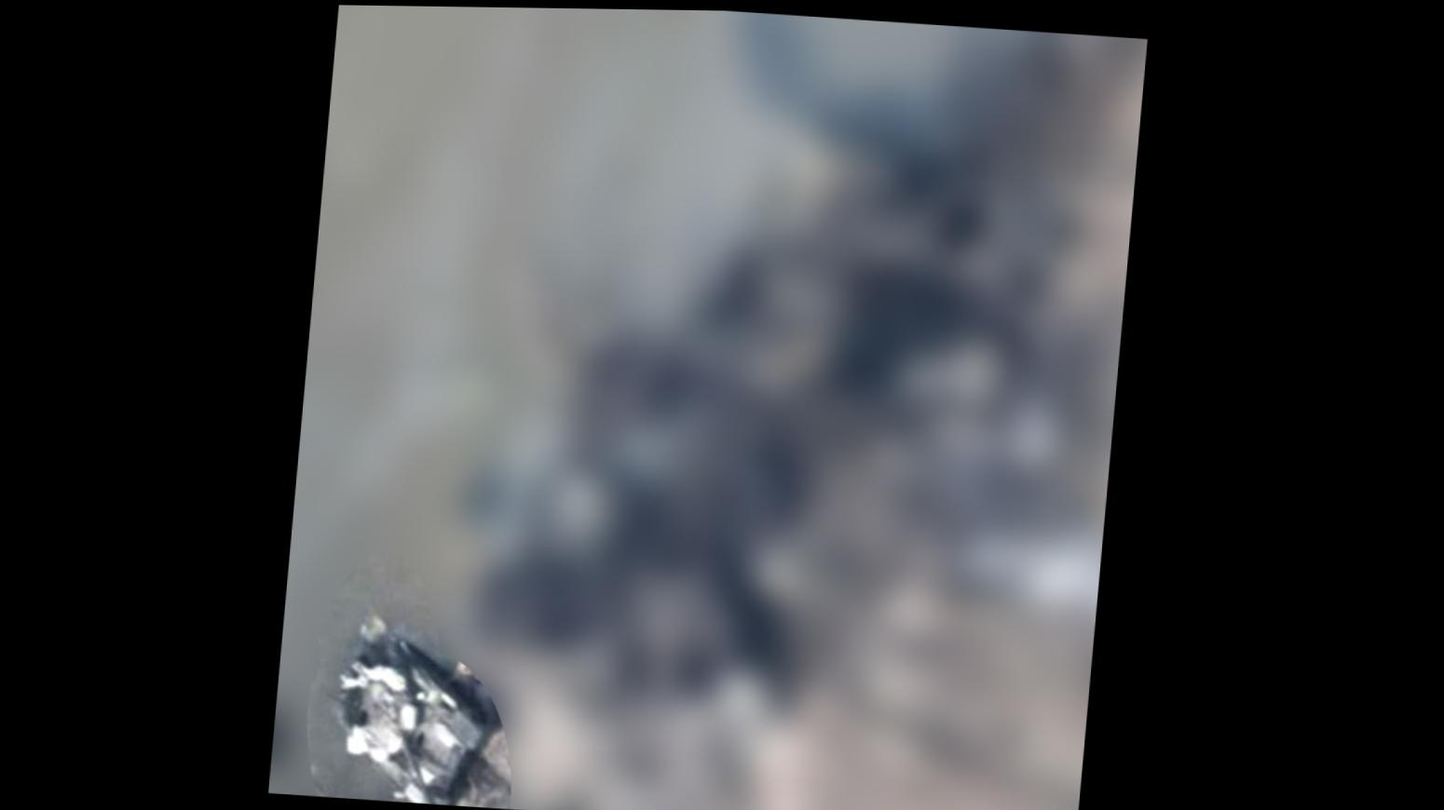tank: (317, 626, 507, 808)
